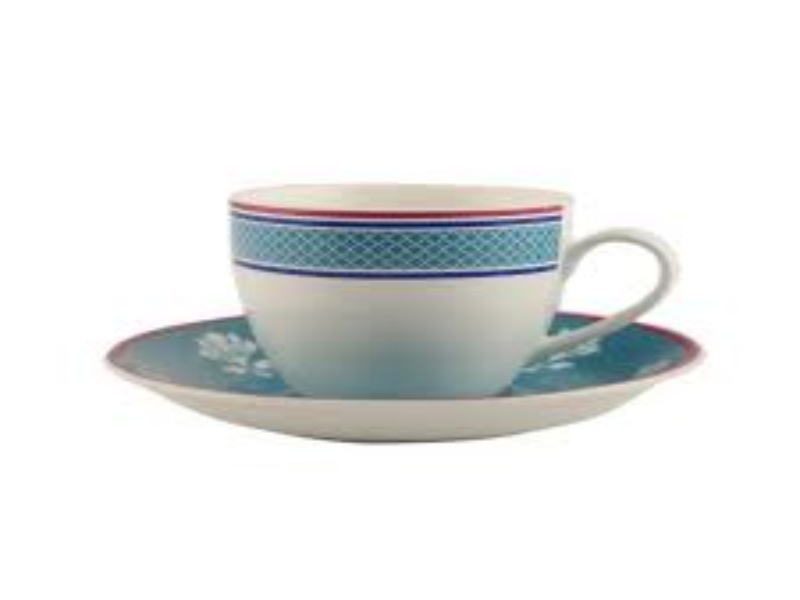cup: (218, 123, 678, 418)
